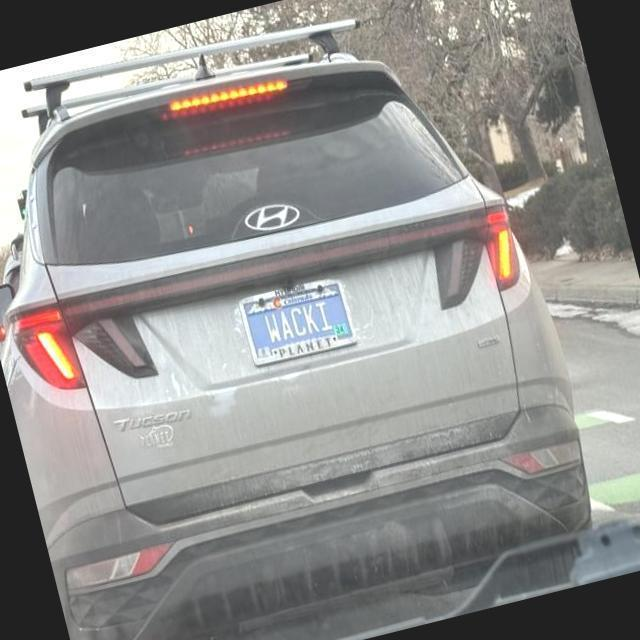license-plate: (234, 289, 354, 372)
